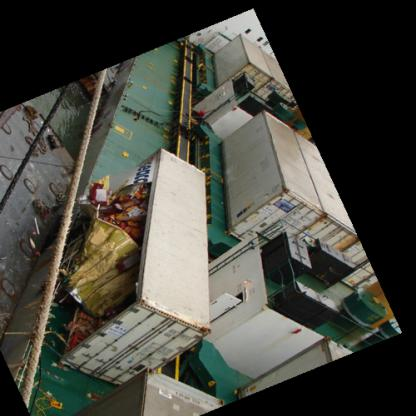Damage: (52, 154, 166, 360)
